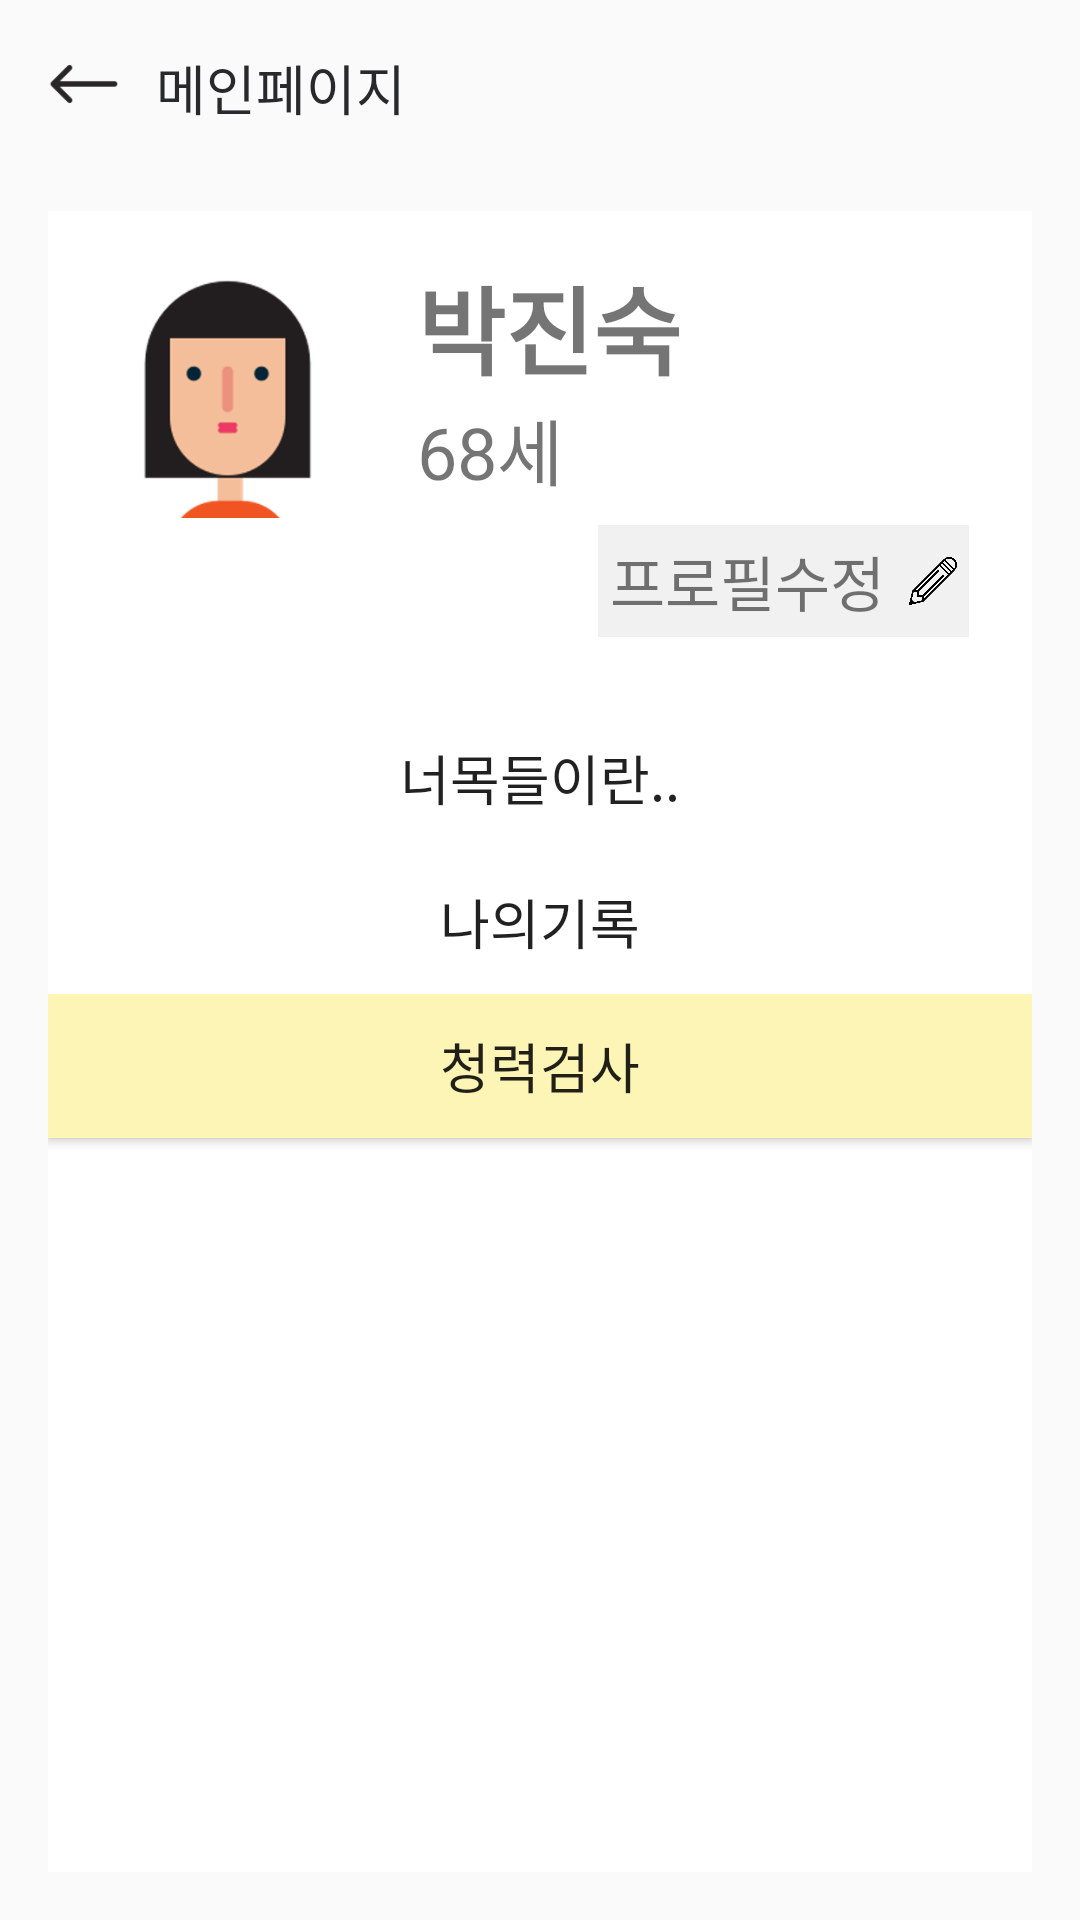

Named icons in this screenshot (1080 x 1920) and their bounding boxes, (x1, y1, x2, y2):
backicon: (50, 65, 118, 103)
edit: (909, 557, 957, 605)
